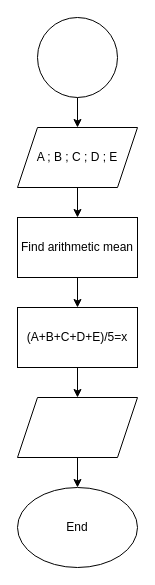
The diagram is 155 pixels wide and 585 high, and some of its shapes have lost their labels. The box of each missing label's shape, as (x1, y1, x2, y2) in pixels:
Print x: (16, 396, 138, 458)
Start: (36, 16, 118, 98)
